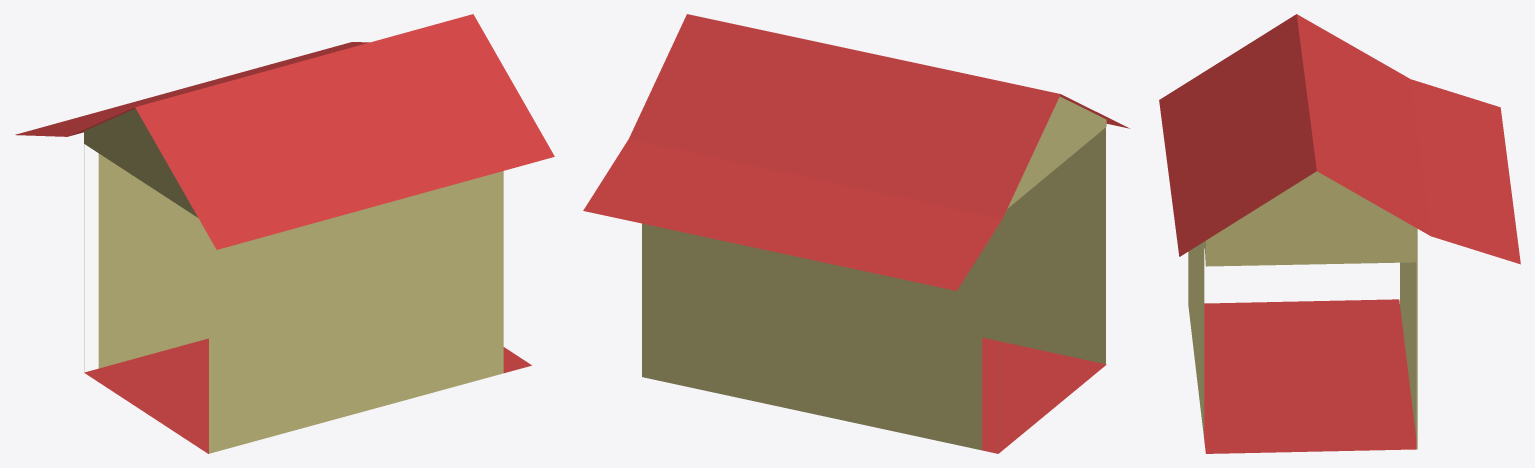
3 views of the same model, side by side, from view 1: azimuth 30°, elevation 25°; view 2: azimuth 150°, elevation 25°; view 3: azimuth 270°, elevation 25° (orthographic). The views are drawn at different scales.
Bounding box in the file's own units: 14.84 × 13.75 × 11.88.
